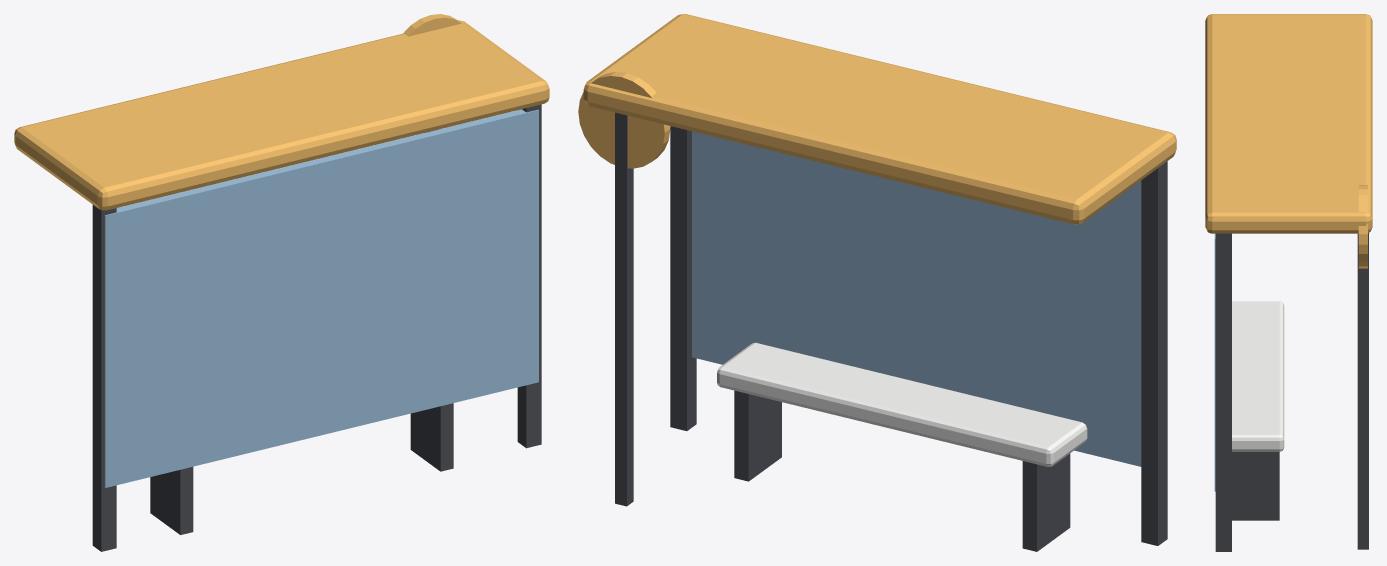
Rendered from BusStop.fbx.
The picture shows the model from 3 angles, left to right: view 1: azimuth 30°, elevation 25°; view 2: azimuth 150°, elevation 25°; view 3: azimuth 270°, elevation 25°; orthographic projection. The views are drawn at different scales.
Parts seen in each view (by area): view 1: Glass, Trim, Dark.004; view 2: Glass, Trim, Dark.004, White; view 3: Trim, Dark.004, White, Glass.
Part boxes in pixels (left/top/right/bottom): Glass: left=104, top=109, right=538, bottom=487; Trim: left=14, top=14, right=549, bottom=210; Dark.004: left=92, top=104, right=541, bottom=551; Glass: left=692, top=131, right=1141, bottom=466; Trim: left=578, top=14, right=1176, bottom=224; Dark.004: left=615, top=112, right=1167, bottom=551; White: left=717, top=342, right=1087, bottom=466; Trim: left=1205, top=14, right=1372, bottom=268; Dark.004: left=1215, top=233, right=1368, bottom=551; White: left=1232, top=301, right=1284, bottom=451; Glass: left=1214, top=233, right=1215, bottom=491.
Bounding box in the file's own units: 1050 × 850 × 360.
